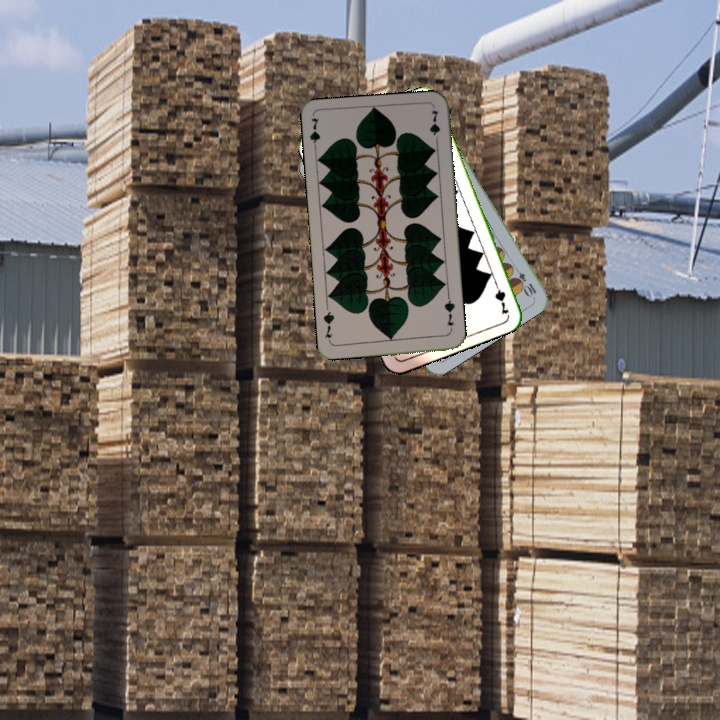E10: (509, 262, 539, 299)
G7: (490, 277, 512, 317), (440, 294, 457, 334), (306, 114, 322, 155)
